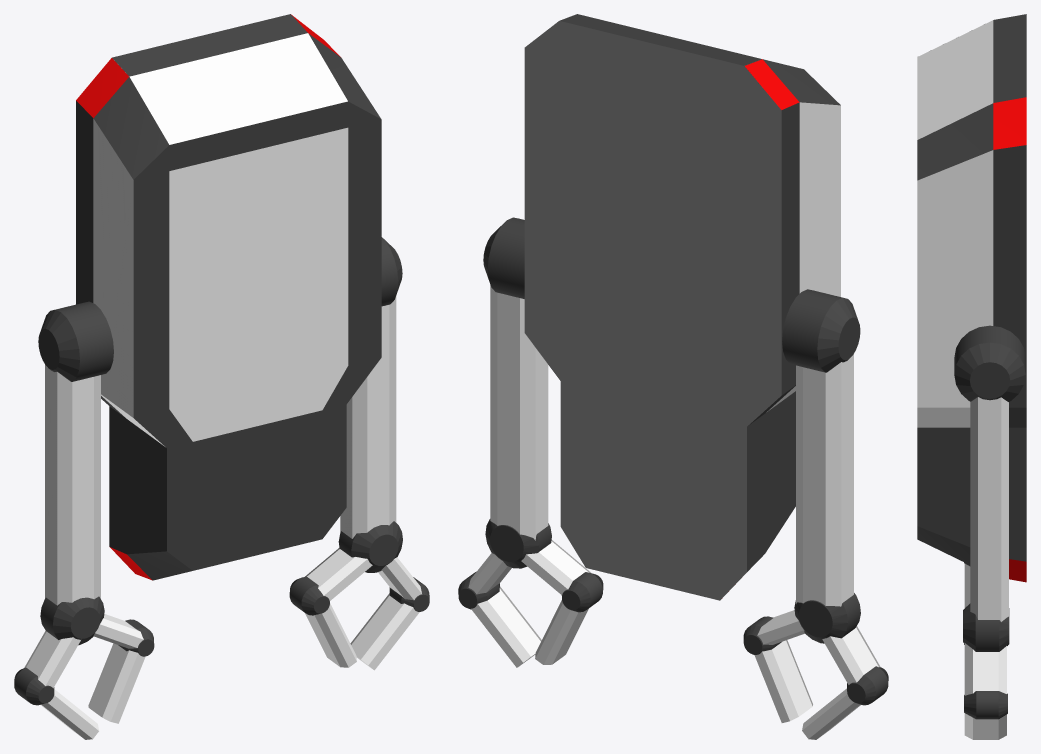
Rendered from constructor.obj.
3 renders of one model, left to right at view 1: azimuth 30°, elevation 25°; view 2: azimuth 150°, elevation 25°; view 3: azimuth 270°, elevation 25°, orthographic. The views are drawn at different scales.
Visible parts, largest first — view 1: Box006, Box008, Box013, Cylinder041, Box010, Box014, Cylinder042, Cylinder046, Box015, Box007, Box016, Box009 (+5 smaller); view 2: Box006, Box008, Box013, Cylinder041, Cylinder048, Box010, Box014, Cylinder042, Cylinder046, Box015, Box007, Box016 (+5 smaller); view 3: Box006, Box013, Cylinder048, Box012, Cylinder046, Cylinder047, Box014, Box010.
Part boxes in pixels (x1,y1,x2,y2): Box006: (76,14,381,580); Box008: (45,364,100,605); Box013: (340,296,396,538); Cylinder041: (38,301,113,381); Box010: (88,643,145,723); Box014: (350,593,419,670); Cylinder042: (40,596,104,645); Cylinder046: (338,521,402,572); Box015: (305,548,372,600); Box007: (24,631,80,688); Box016: (305,603,356,667); Box009: (40,689,98,739); Box006: (524,14,840,600); Box008: (796,354,853,606); Box013: (490,285,548,540); Cylinder041: (782,289,860,372); Cylinder048: (483,217,524,298); Box010: (754,640,812,722); Box014: (471,586,541,667); Cylinder042: (794,593,860,643); Cylinder046: (485,519,551,568); Box015: (521,540,591,594); Box007: (822,626,880,684); Box016: (535,600,588,664); Box006: (917,14,1026,582); Box013: (970,397,1008,621); Cylinder048: (954,325,1025,401); Box012: (964,643,1006,695); Cylinder046: (963,603,1009,651); Cylinder047: (964,691,1007,719); Box014: (964,713,1006,739); Box010: (964,564,970,607).
Bounding box in the file's own units: 1.41 × 2.17 × 0.3494.
